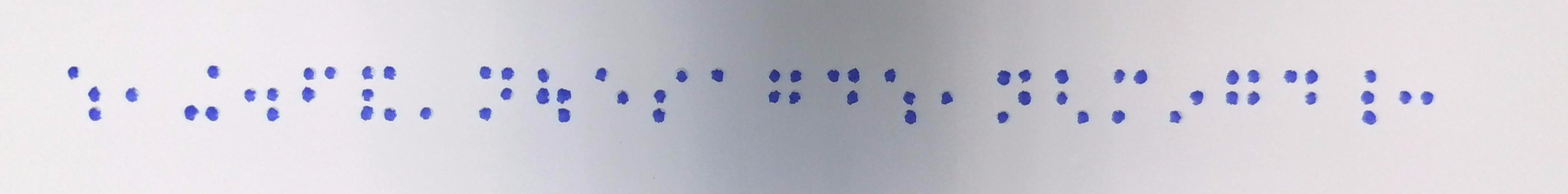braille_dot: (182, 104, 200, 122), (1361, 108, 1377, 127), (556, 88, 572, 106), (652, 107, 668, 125), (535, 87, 550, 106), (556, 107, 572, 124), (1017, 90, 1033, 107), (1225, 69, 1241, 86), (1419, 90, 1436, 106), (87, 86, 102, 104), (1054, 68, 1069, 86), (1190, 89, 1205, 107), (205, 106, 220, 123), (266, 106, 281, 123), (301, 86, 316, 103), (360, 105, 375, 122), (383, 106, 398, 123), (653, 88, 668, 105), (997, 70, 1012, 87), (1133, 69, 1148, 86), (1111, 108, 1126, 125), (1246, 90, 1261, 107), (1304, 69, 1319, 86), (1361, 89, 1376, 106), (903, 108, 917, 126), (87, 106, 102, 122), (500, 66, 515, 82), (710, 68, 725, 84), (767, 89, 782, 105), (826, 68, 841, 84), (940, 90, 955, 106), (1225, 90, 1240, 106), (1283, 69, 1298, 85), (1363, 69, 1378, 85), (847, 67, 861, 84), (845, 89, 859, 106), (1055, 90, 1069, 107), (1112, 68, 1126, 85), (323, 66, 338, 81), (382, 66, 397, 81), (767, 69, 782, 84), (125, 87, 139, 103), (206, 64, 220, 80), (266, 87, 280, 103), (536, 68, 550, 84), (595, 67, 609, 83), (616, 90, 630, 106), (788, 90, 802, 106), (884, 68, 898, 84), (1018, 69, 1032, 85), (1246, 69, 1260, 85), (243, 88, 257, 103), (361, 88, 375, 103), (479, 106, 493, 121), (675, 69, 689, 84), (788, 69, 802, 84), (996, 110, 1010, 125), (1076, 110, 1090, 125), (1169, 109, 1183, 124), (303, 66, 316, 82), (903, 90, 916, 106), (1399, 90, 1412, 106), (499, 87, 513, 101), (361, 65, 374, 80), (1305, 91, 1318, 106), (67, 66, 80, 80), (479, 66, 492, 80), (420, 106, 432, 121)
